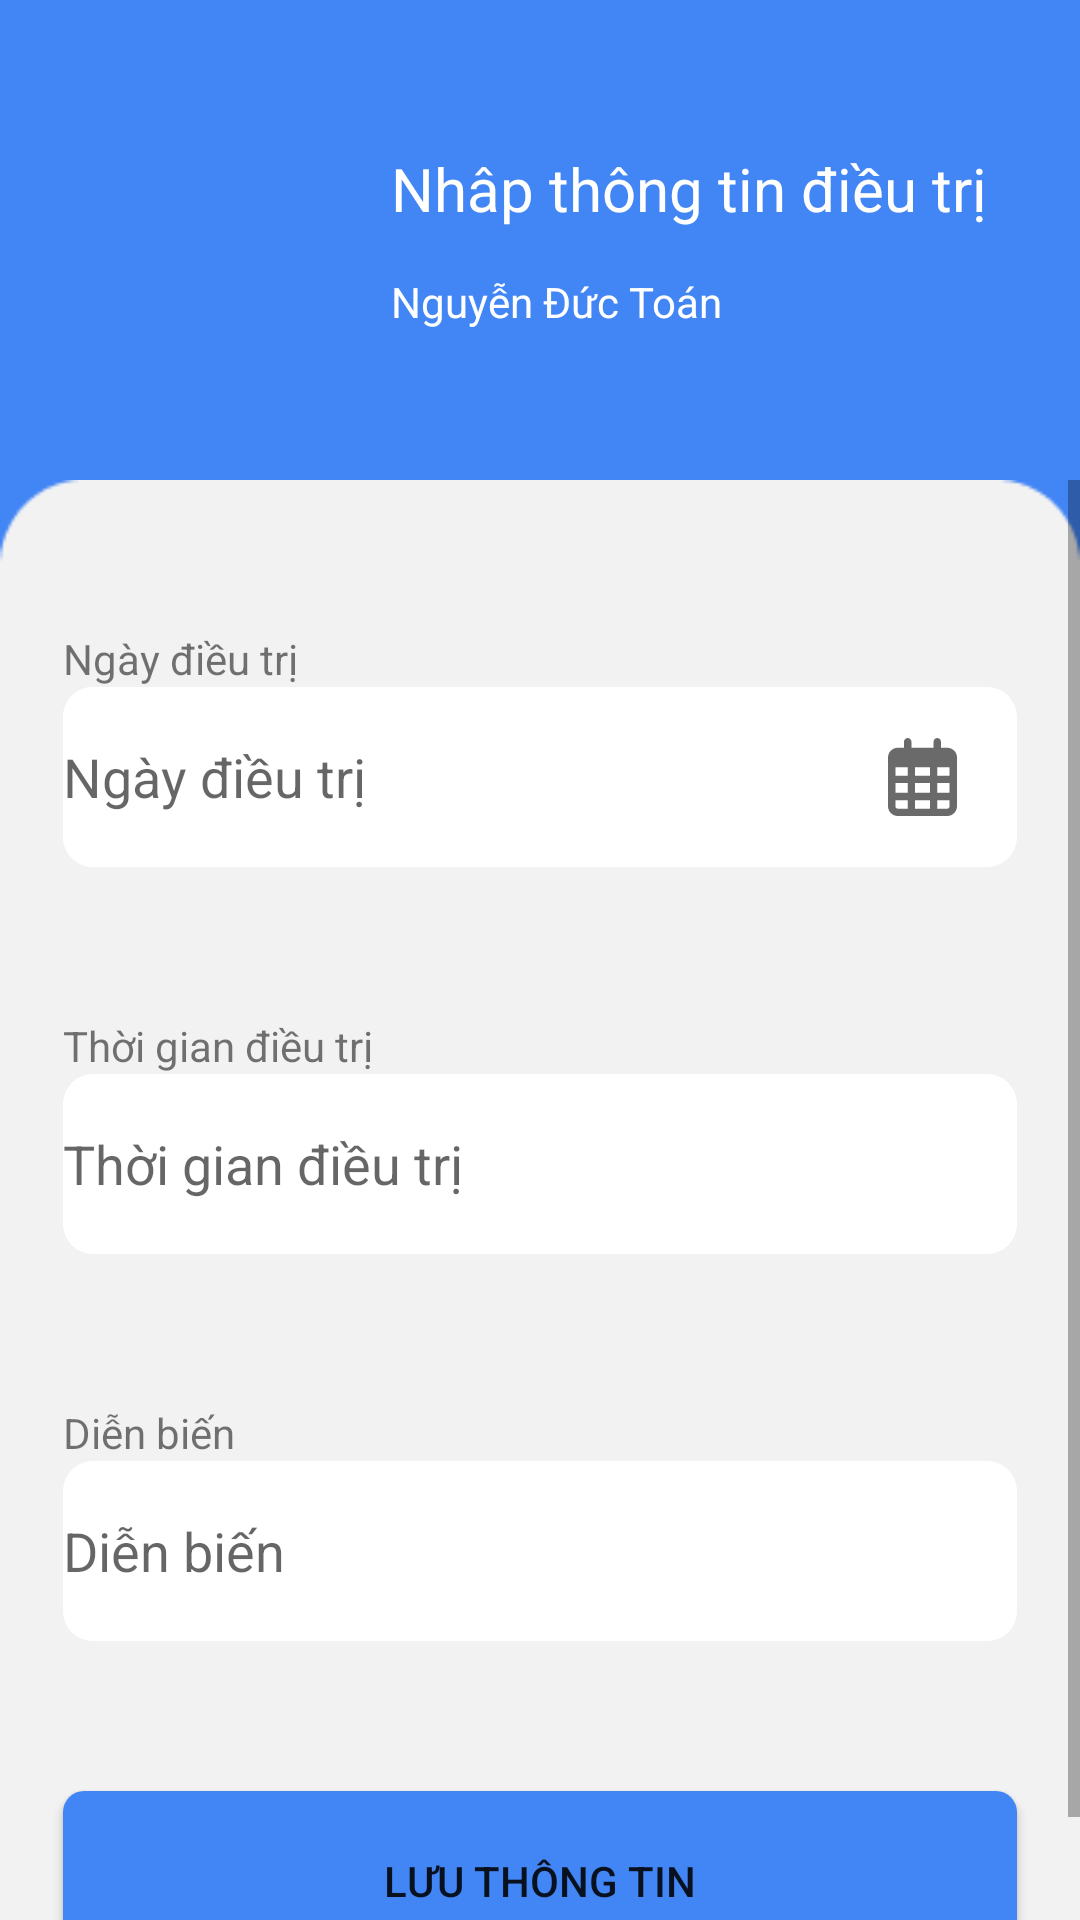

Screen size 1080w x 1920h. Icon name, then its center in pixels as point (x, y):
calendar: point (922, 777)
